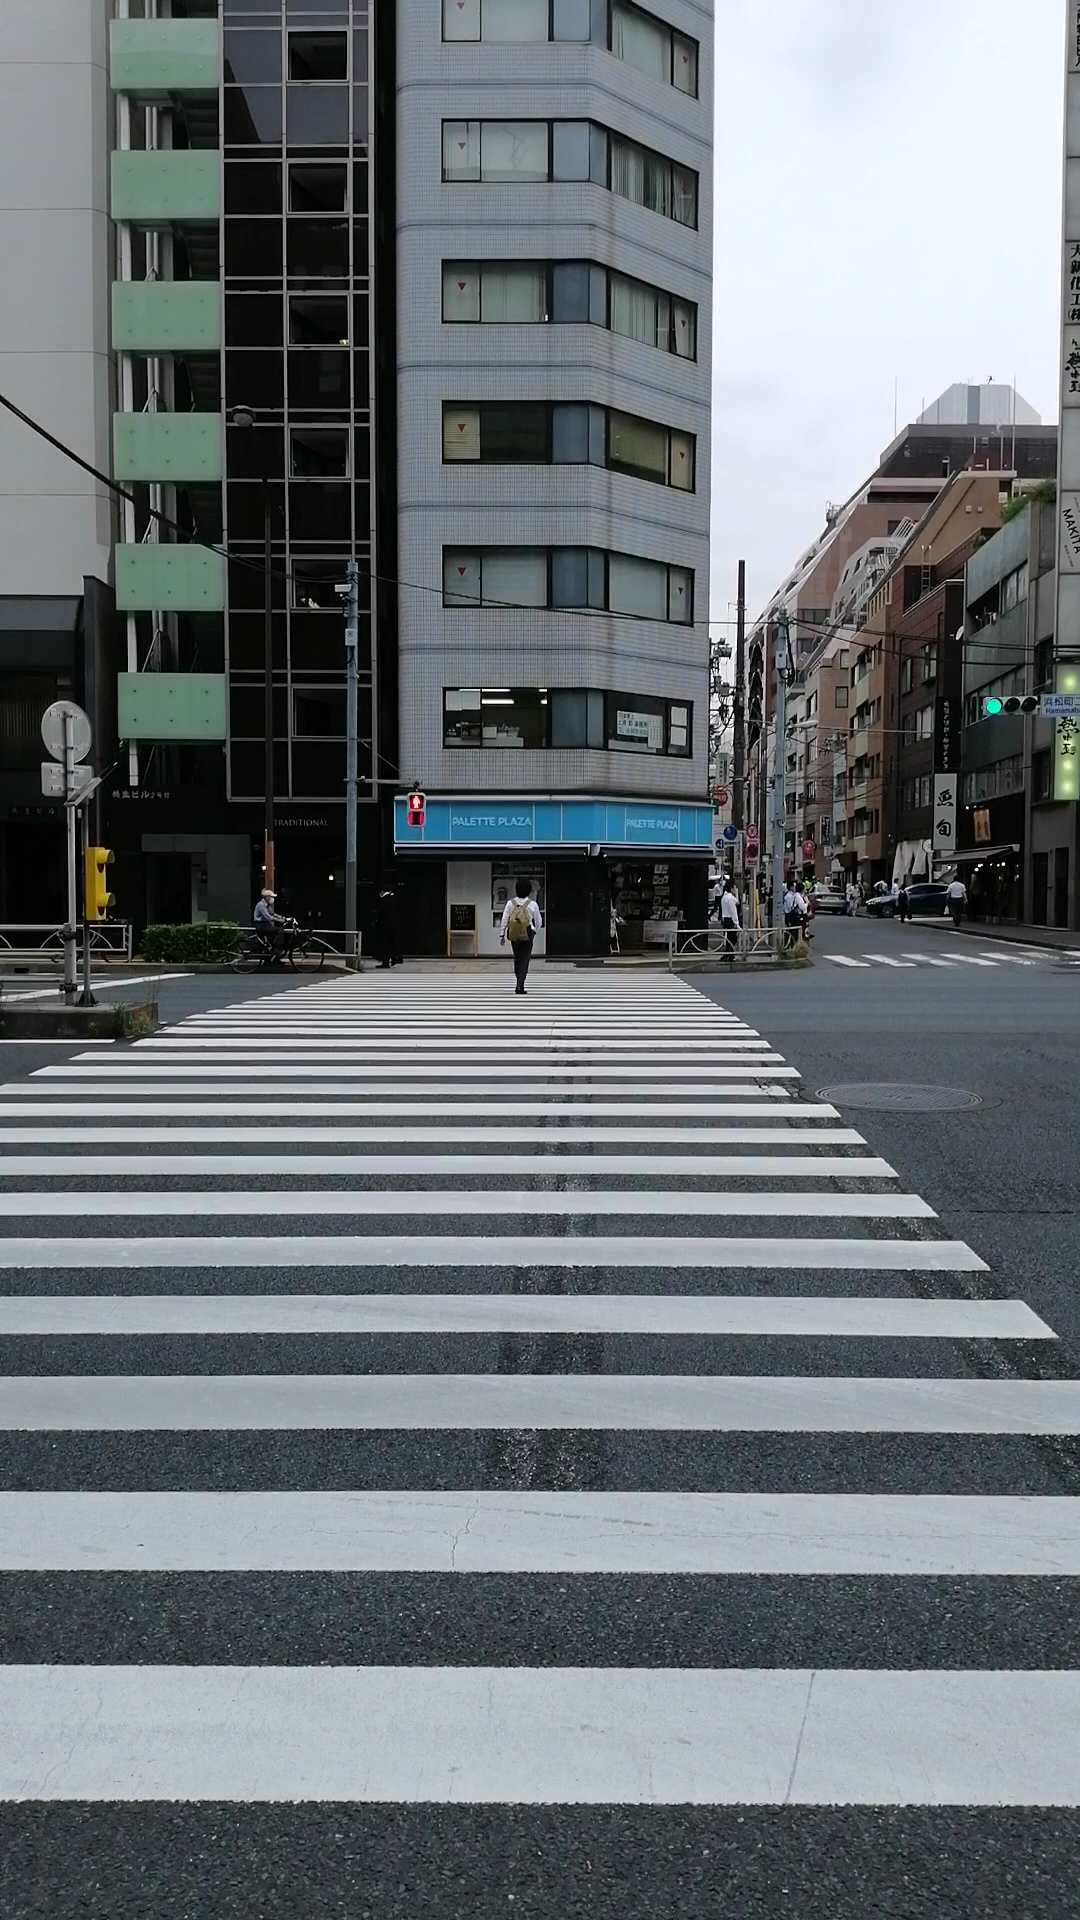red: (406, 791, 426, 828)
